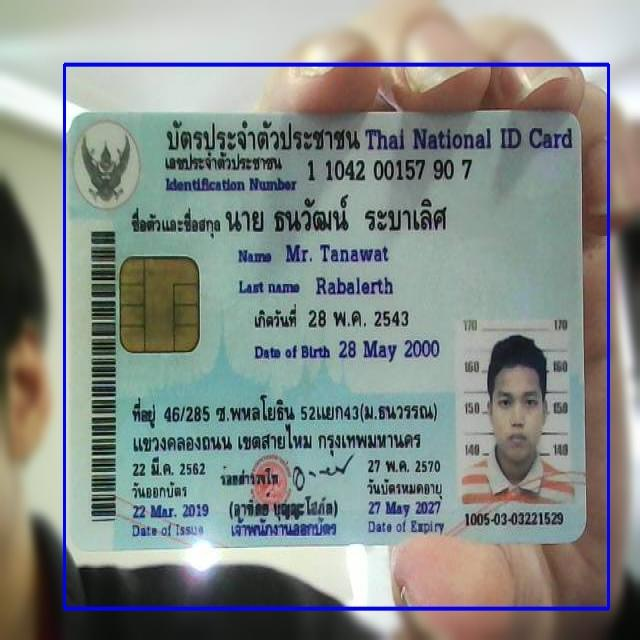Address_th: (123, 380, 443, 456)
Date_of_Birth: (337, 333, 447, 366)
Date_of_Expiry: (364, 498, 443, 519)
Date_of_Issue: (128, 500, 215, 522)
First_Name: (281, 238, 394, 270)
ID_Number: (302, 154, 478, 188)
Image: (459, 318, 577, 508)
Last_Name: (311, 272, 396, 302)
Thai_Name: (224, 192, 449, 237)
